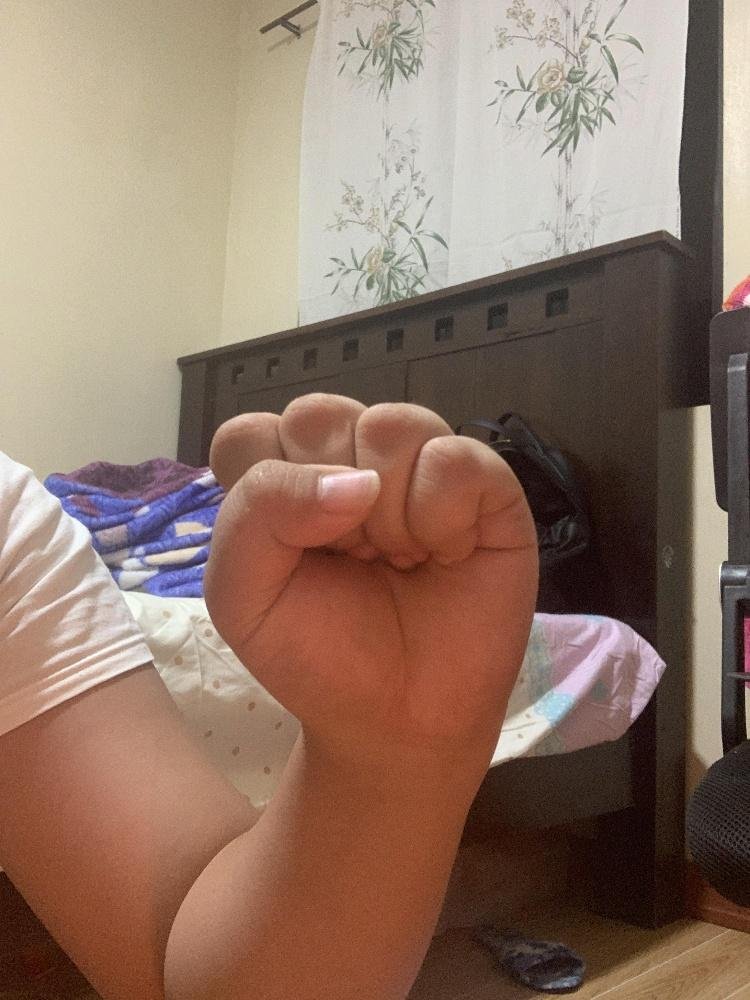s: (201, 387, 544, 765)
